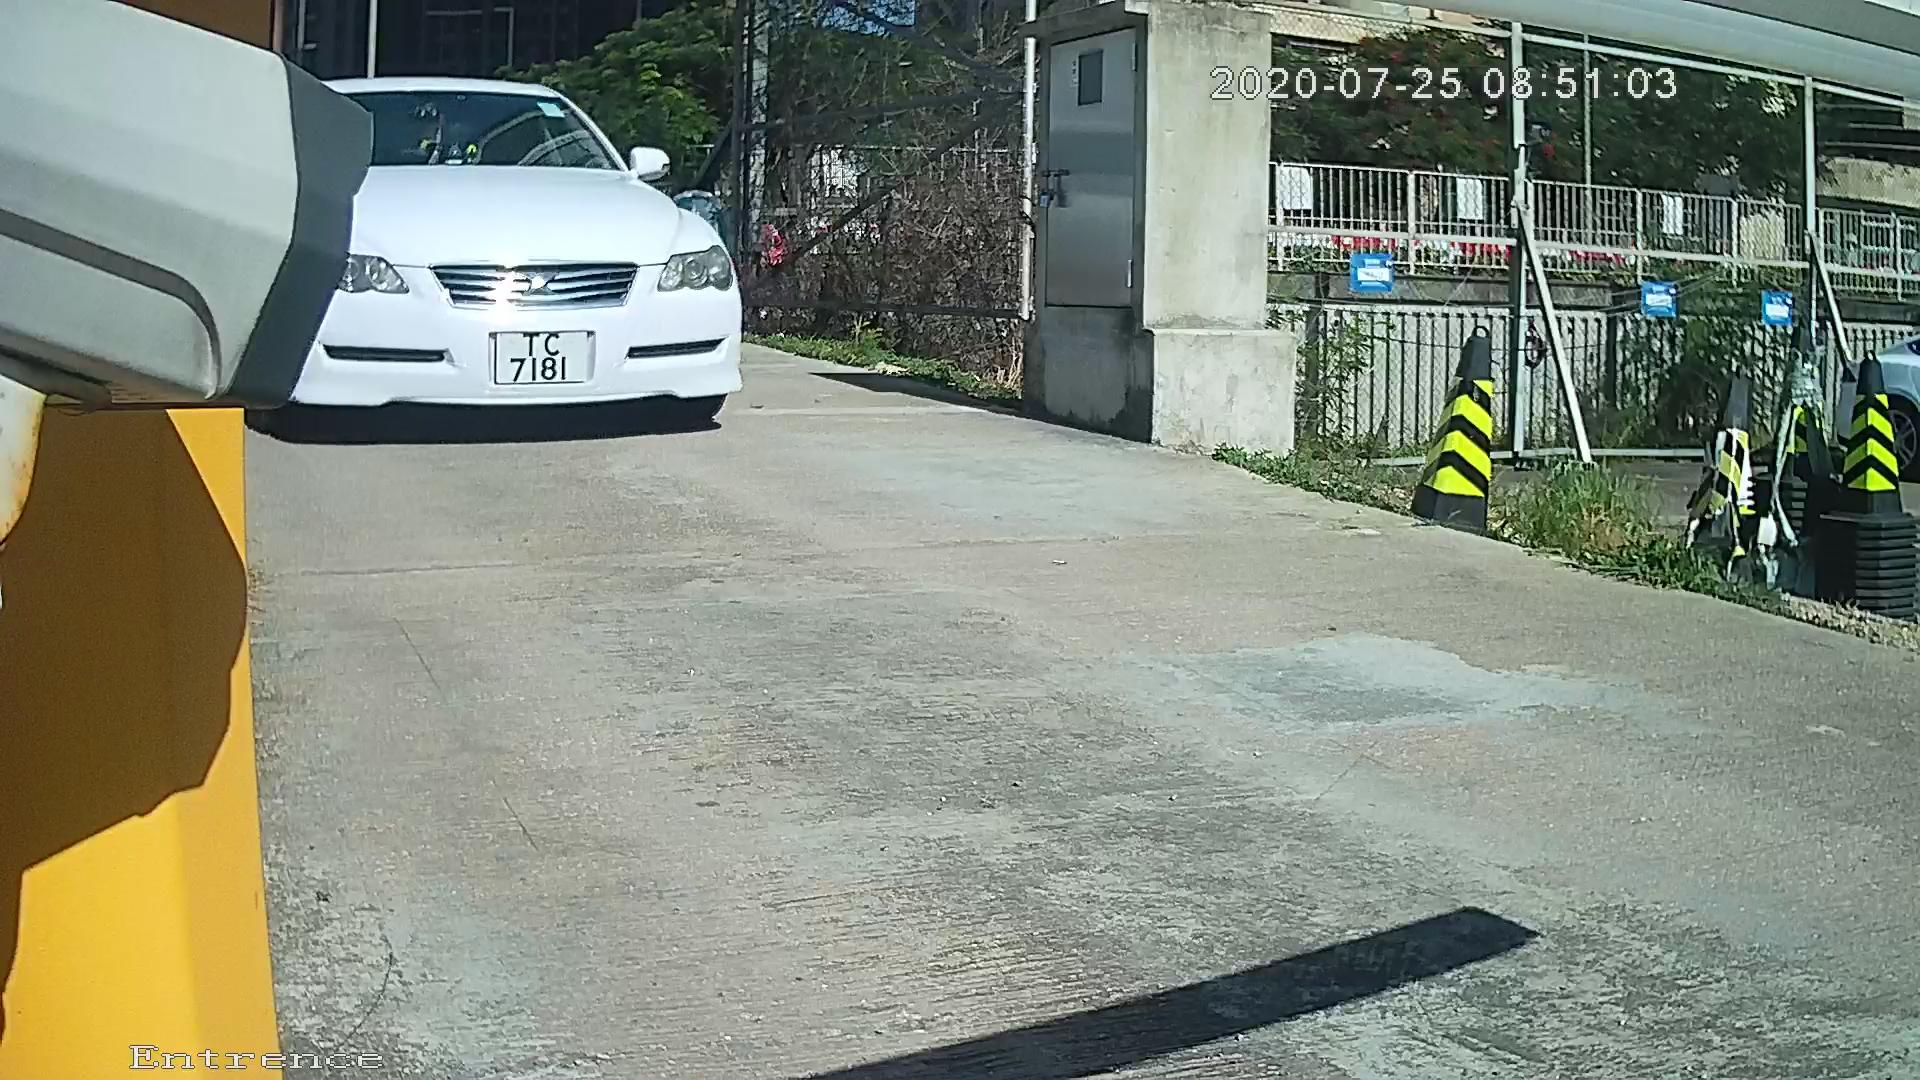Car: (69, 29, 806, 516)
License Plate: (469, 313, 615, 399)
